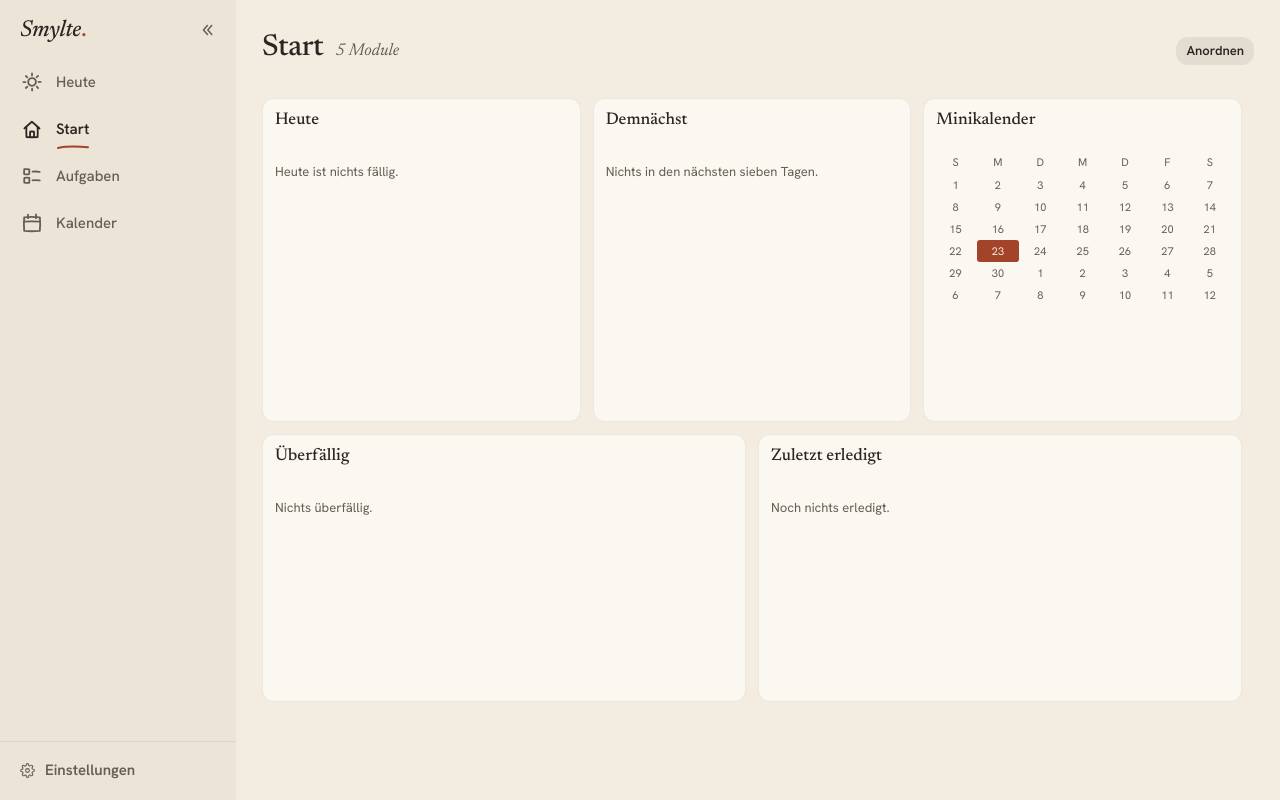
Test: the app in German › names the tabs in German
Expected: the button "Heute" is shown, top-left (8, 60), bottom-right (228, 106)
Expected: the button "Start" is shown, top-left (8, 107), bottom-right (228, 153)
Bookings are a segment inside Calendar now, not a tab of their own.
Click the button "Kalender" at {"x": 118, "y": 224}, box top-left (8, 201), bottom-right (228, 247)
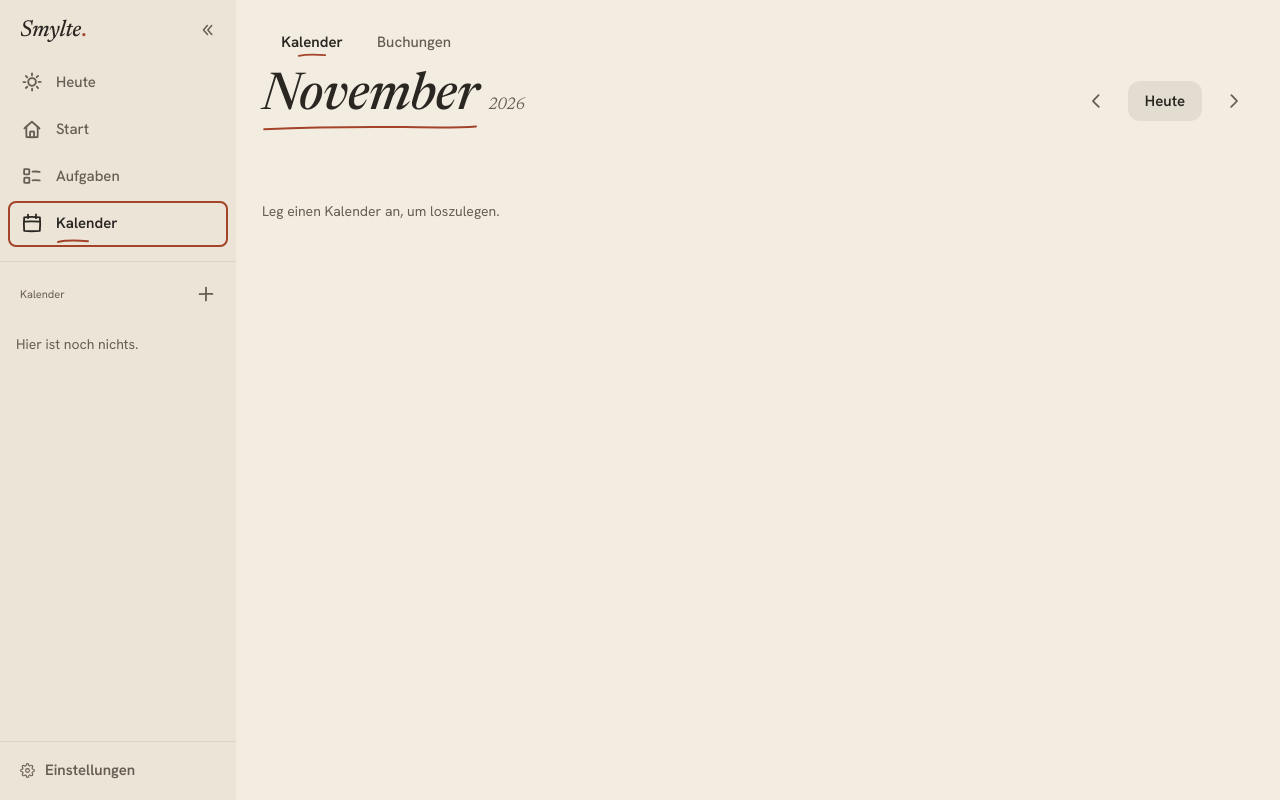
Expected: the tab "Buchungen" is shown, top-left (364, 26), bottom-right (464, 61)
